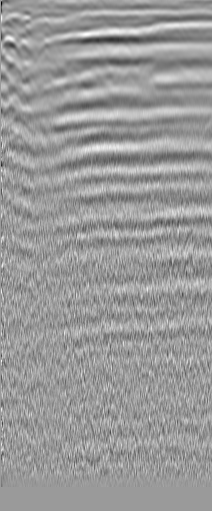오수: (30, 17, 50, 37)
우수: (171, 20, 191, 40)
